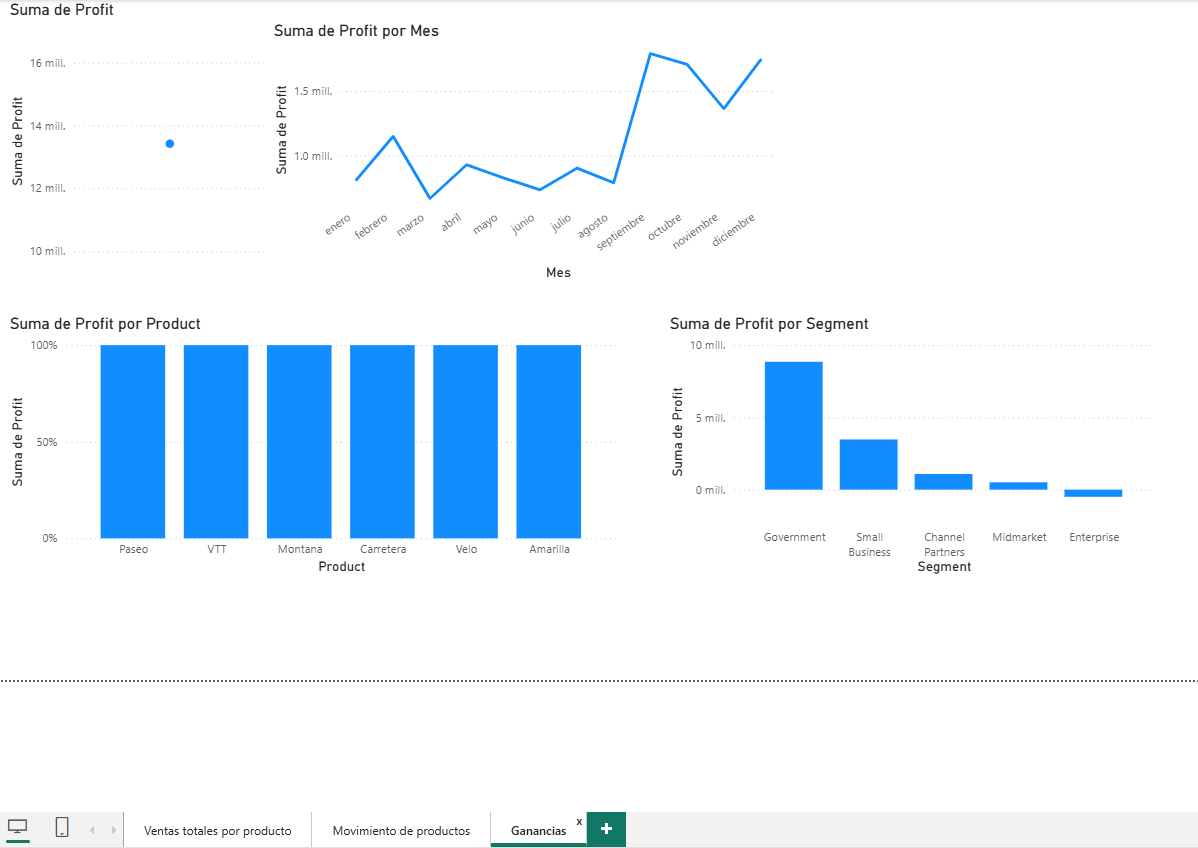

Layout of this report page (visuals, bound fields, positions):
{"tool":"powerbi","page":{"name":"Ganancias","canvas":[1280,720],"ordinal":2},"visuals":[{"type":"lineChart","fields":{"Y":["Sum(Sheet1.Profit)"]},"box":[10,0,280,280],"z":0},{"type":"lineChart","fields":{"Category":["Sheet1.Date.Variación.Jerarquía de fechas.Mes"],"Y":["Sum(Sheet1.Profit)"]},"box":[289,22.2,541,279.5],"z":1},{"type":"hundredPercentStackedColumnChart","fields":{"Category":["Sheet1.Product"],"Y":["Sum(Sheet1.Profit)"]},"box":[9.5,332.4,652.2,280.6],"z":2},{"type":"clusteredColumnChart","fields":{"Category":["Sheet1.Segment"],"Y":["Sum(Sheet1.Profit)"]},"box":[708.3,332.4,523,280.6],"z":3}]}

Visuals, with their boxes on the page's 1280x720 design canvas (x1, y1, x2, y2). These are canvas units, not pixel positions in the 1198x848 screenshot, which may show the page scaled, cropped or inside an application window:
lineChart - Sum(Sheet1.Profit): (x1=10, y1=0, x2=290, y2=280)
lineChart - Sheet1.Date.Variación.Jerarquía de fechas.Mes x Sum(Sheet1.Profit): (x1=289, y1=22, x2=830, y2=302)
hundredPercentStackedColumnChart - Sheet1.Product x Sum(Sheet1.Profit): (x1=10, y1=332, x2=662, y2=613)
clusteredColumnChart - Sheet1.Segment x Sum(Sheet1.Profit): (x1=708, y1=332, x2=1231, y2=613)
